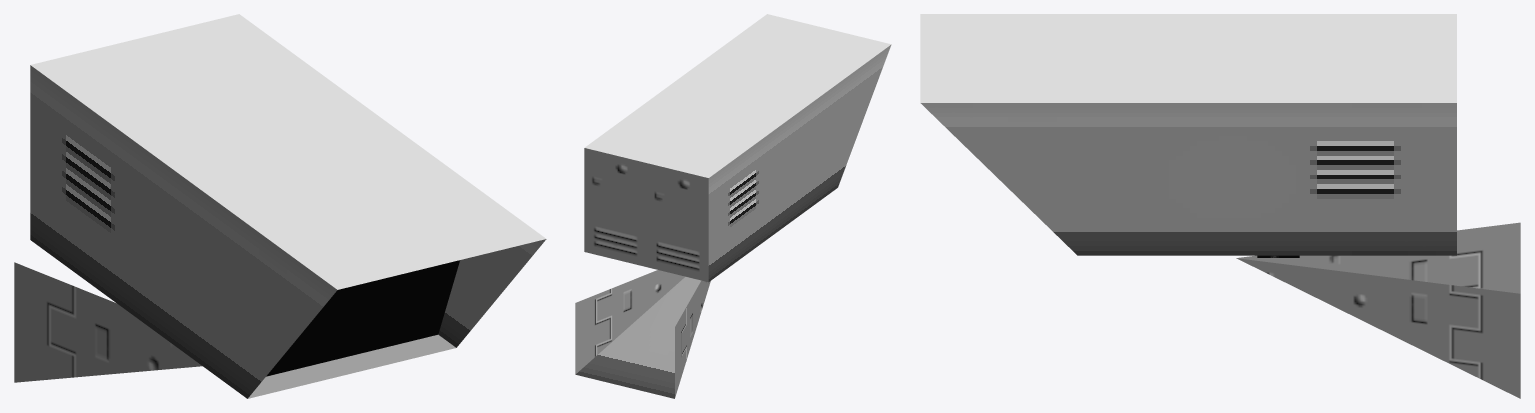
The model's file is security_camera.obj.
The picture shows the model from 3 angles, left to right: view 1: azimuth 30°, elevation 25°; view 2: azimuth 150°, elevation 25°; view 3: azimuth 270°, elevation 25°; orthographic projection. The views are drawn at different scales.
Visible parts, largest first — view 1: primary, secondary; view 2: primary; view 3: primary.
Part boxes in pixels (bbox=[...]): primary: bbox=[14, 14, 546, 398]; secondary: bbox=[266, 260, 459, 376]; primary: bbox=[575, 14, 891, 398]; primary: bbox=[920, 14, 1520, 398].
Bounding box in the file's own units: 245 × 391 × 698.
11 materials, 11 textured.
